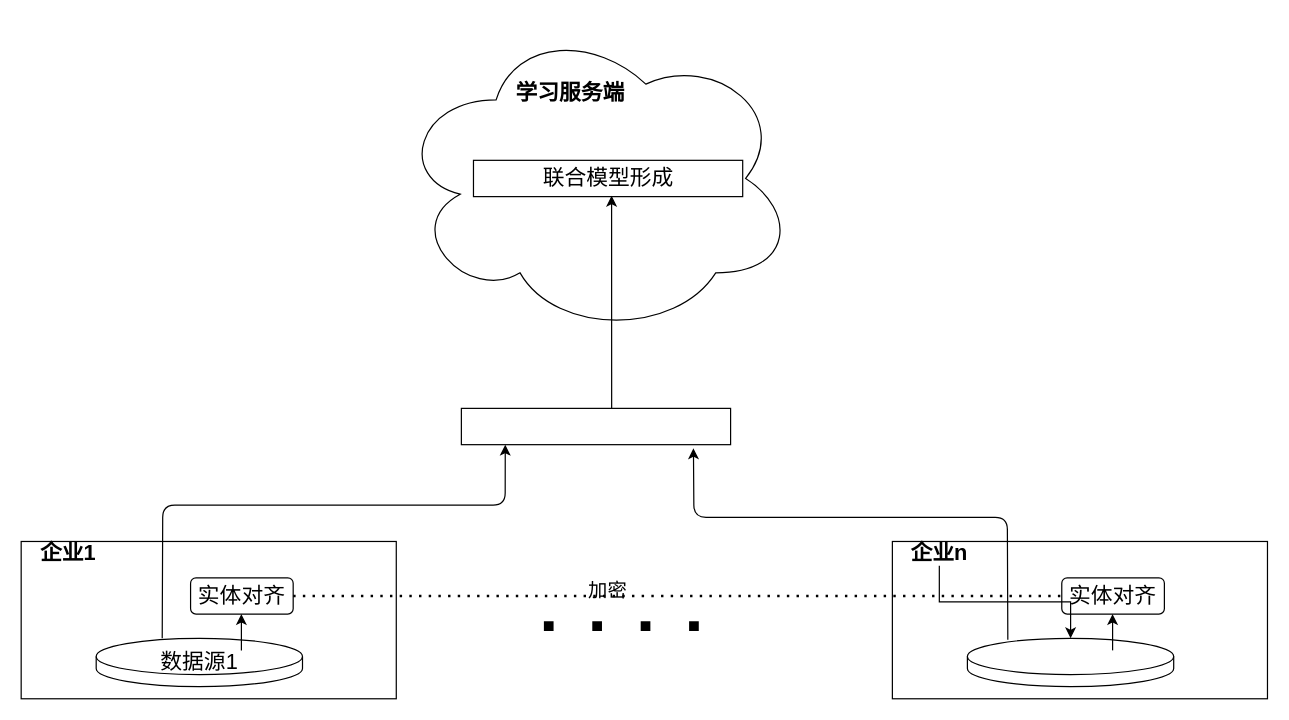
Image size: 1289x720. Some labels were removed from this diagram. The box of each missing label's shape, as (x1, y1, x2, y2) in pixels:
参数训练: (460, 407, 731, 445)
数据源n: (966, 637, 1174, 687)
